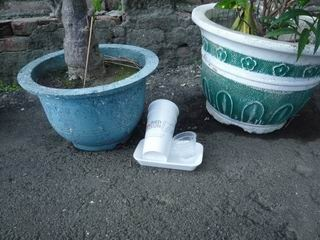bottle: (143, 99, 179, 162), (171, 130, 197, 162)
plate: (133, 137, 203, 170)
